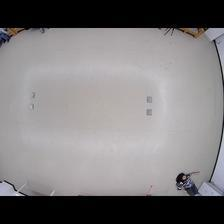fall: (173, 168, 201, 195)
